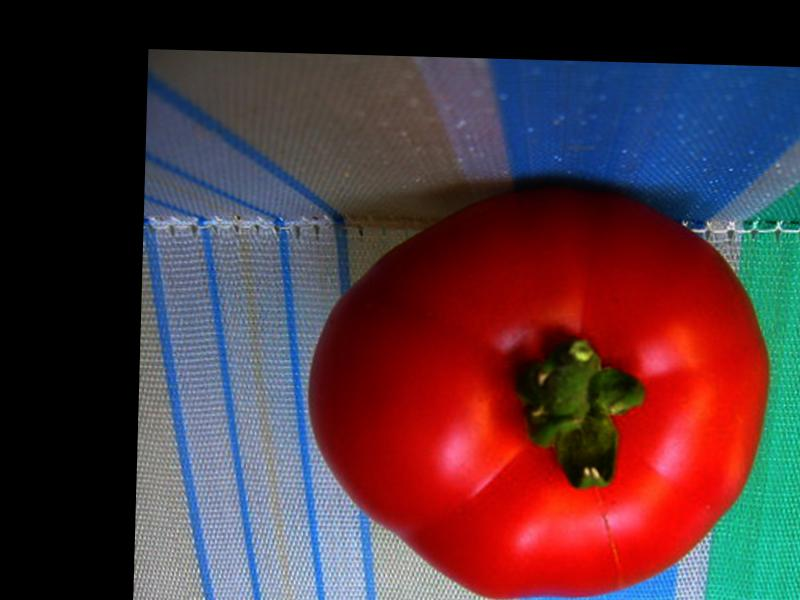Tomato: (306, 178, 774, 600)
